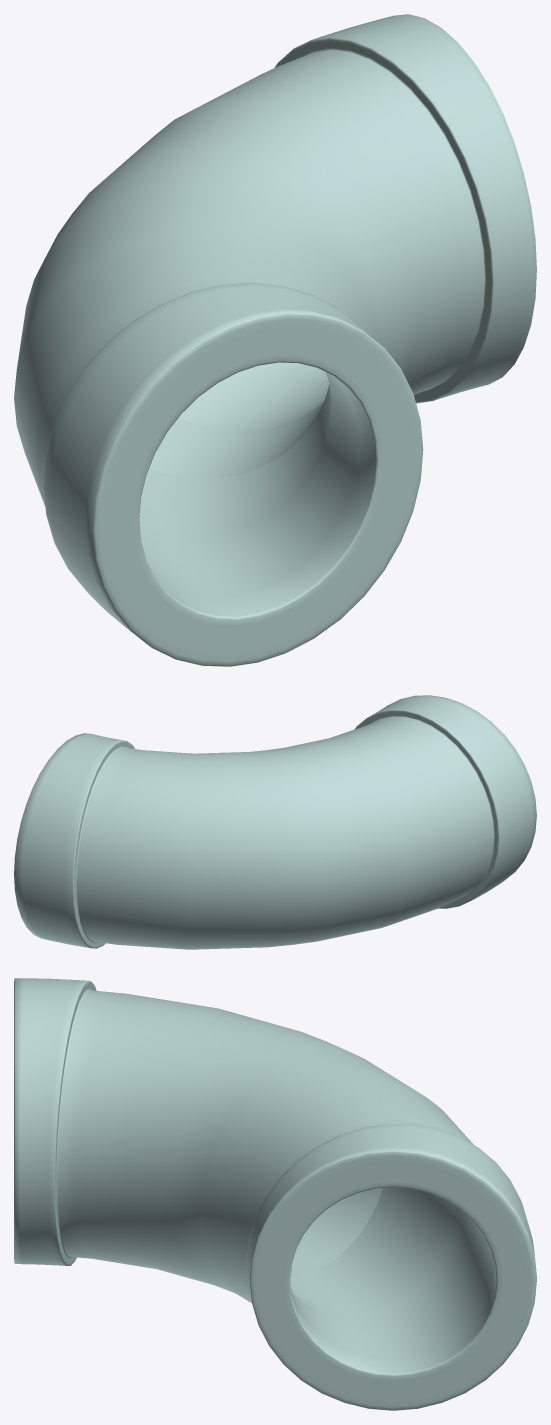
File: pipe_v1_90.FBX
The picture shows the model from 3 angles, top to bottom: view 1: azimuth 30°, elevation 25°; view 2: azimuth 150°, elevation 25°; view 3: azimuth 270°, elevation 25°; orthographic projection. The views are drawn at different scales.
Parts seen in each view (by area): view 1: Cylinder029; view 2: Cylinder029; view 3: Cylinder029.
Part boxes in pixels (x1,y1,x2,y2): Cylinder029: (14,14,536,666); Cylinder029: (14,695,536,949); Cylinder029: (14,978,536,1410).
Size of the model in its own units: 167 by 91.68 by 167.
